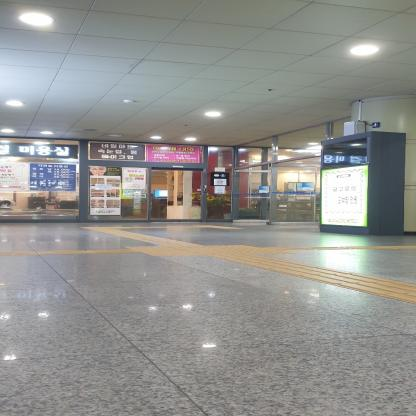go: (331, 281, 416, 295), (299, 274, 398, 285), (269, 267, 358, 277), (244, 261, 322, 270), (220, 257, 290, 264)
